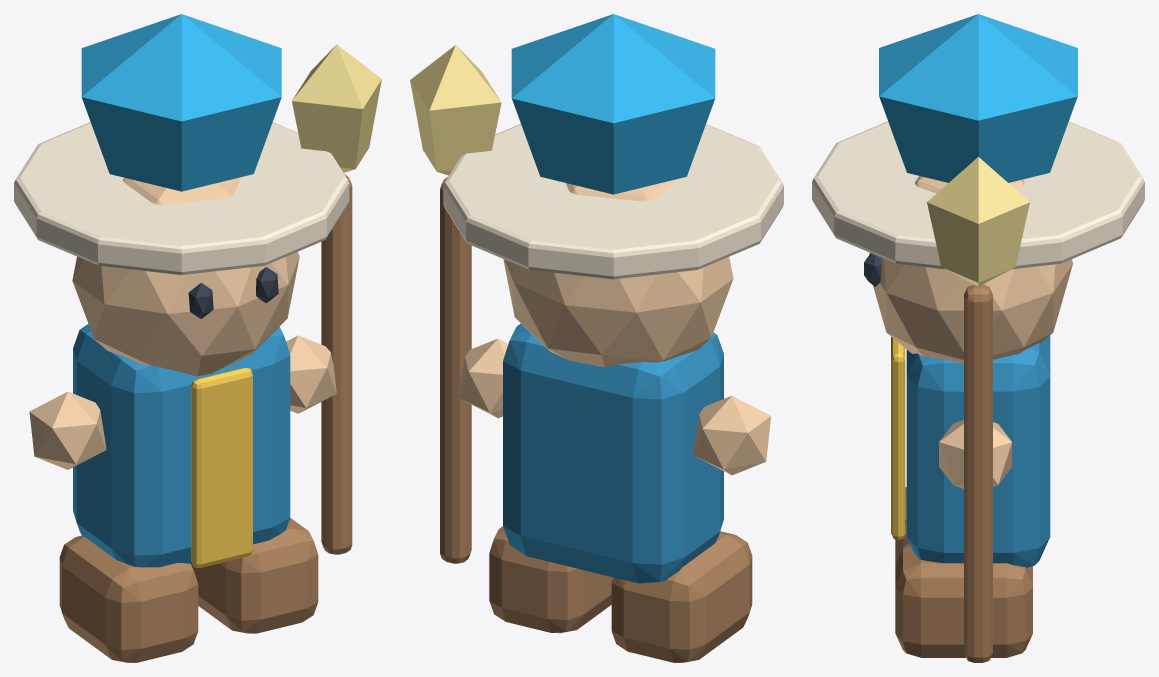
The model's file is Adventurer.fbx.
The picture shows the model from 3 angles, left to right: view 1: azimuth 30°, elevation 25°; view 2: azimuth 150°, elevation 25°; view 3: azimuth 270°, elevation 25°; orthographic projection. The views are drawn at different scales.
Parts seen in each view (by area): view 1: Adventurer; view 2: Adventurer; view 3: Adventurer.
Part boxes in pixels (x1,y1,x2,y2): Adventurer: (14, 14, 381, 662); Adventurer: (410, 14, 783, 662); Adventurer: (812, 14, 1144, 662).
Bounding box in the file's own units: 69.71 × 116 × 58.
